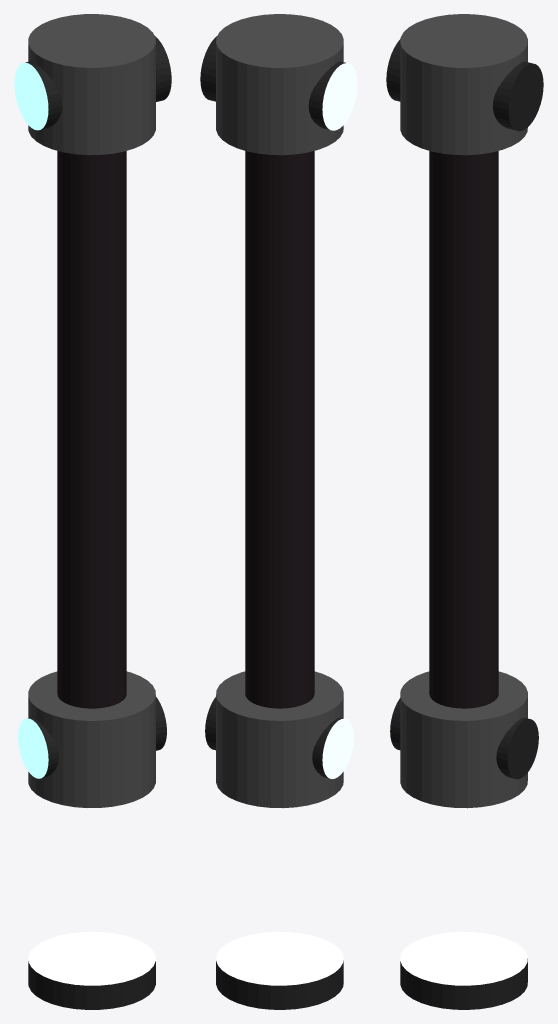
File: Mo_ForestVillageFence02.fbx
3 renders of one model, left to right at view 1: azimuth 30°, elevation 25°; view 2: azimuth 150°, elevation 25°; view 3: azimuth 330°, elevation 25°, orthographic.
Parts seen in each view (by area): view 1: EndFence; view 2: EndFence; view 3: EndFence.
Boxes of the visible parts, x1,y1,x2,y2 form: EndFence: (14, 14, 171, 1009); EndFence: (200, 14, 357, 1009); EndFence: (386, 14, 543, 1009).
Size of the model in its own units: 45.31 by 331 by 40.8.
